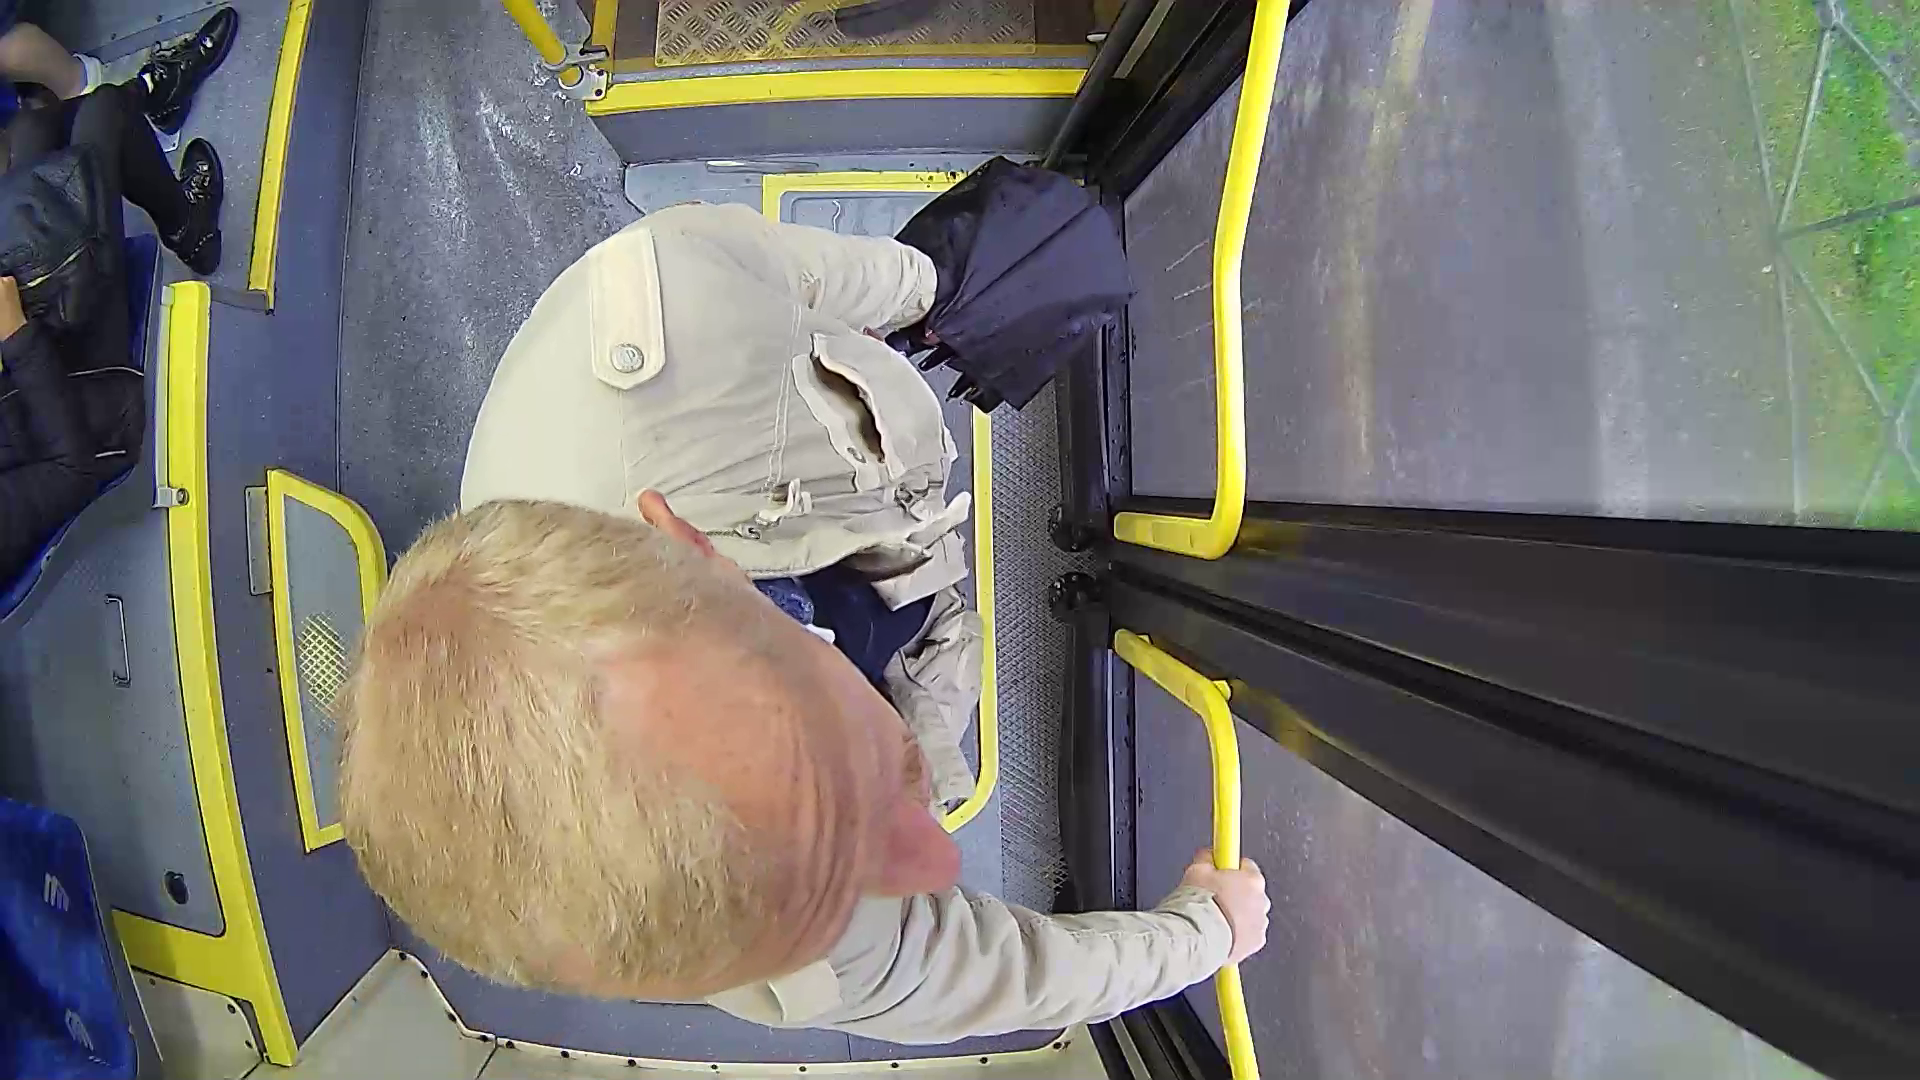person: (324, 190, 1301, 1042)
